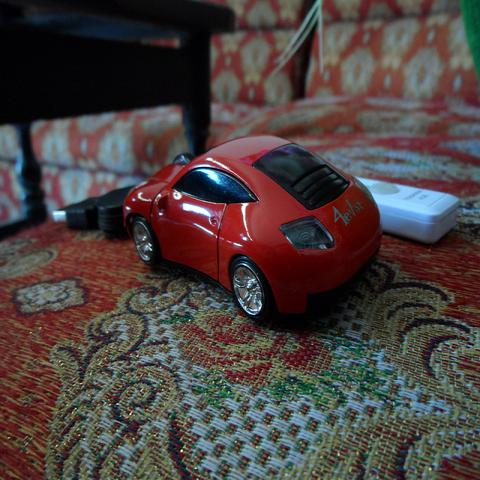car: (120, 136, 384, 313)
